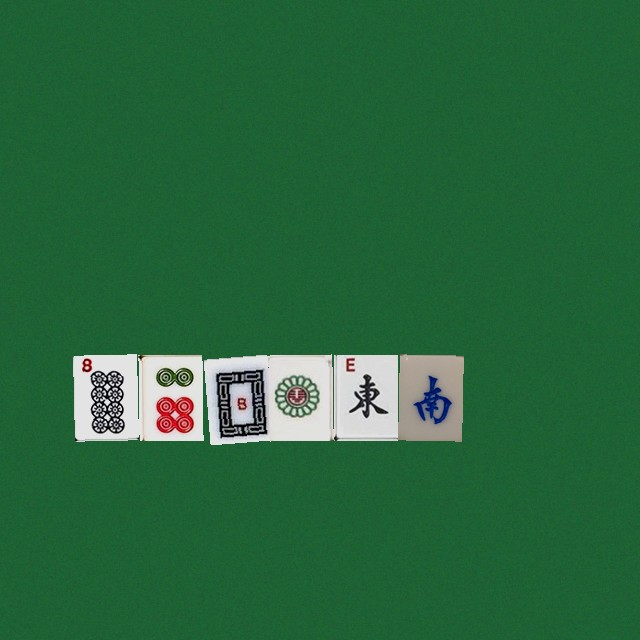tile: (73, 354, 137, 440), (138, 354, 202, 440), (203, 354, 267, 440), (268, 354, 332, 440), (333, 354, 397, 440), (398, 354, 462, 440)
